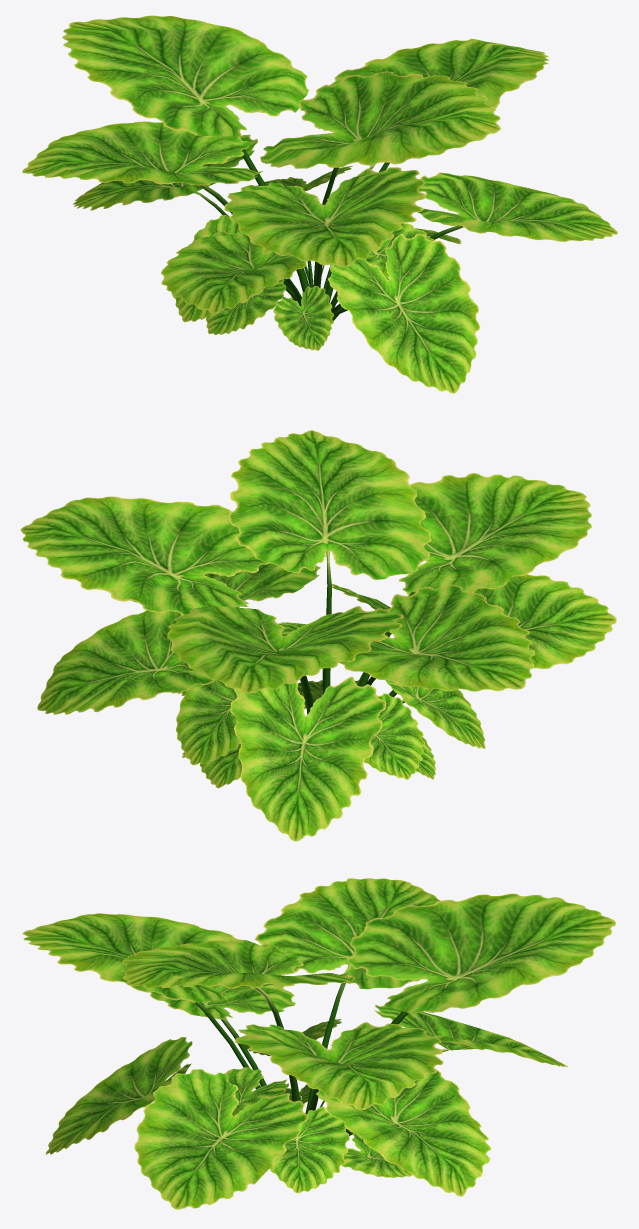
Rendered from elephant.glb.
The picture shows the model from 3 angles, top to bottom: view 1: azimuth 30°, elevation 25°; view 2: azimuth 150°, elevation 25°; view 3: azimuth 270°, elevation 25°; orthographic projection. The views are drawn at different scales.
Parts seen in each view (by area): view 1: Object_2; view 2: Object_2; view 3: Object_2.
Boxes of the visible parts, <box> form: Object_2: <box>22,15,617,393</box>; Object_2: <box>20,430,616,841</box>; Object_2: <box>22,878,615,1209</box>.
Bounding box in the file's own units: 6.14 × 2.8 × 6.33.
Materials: 1 (1 with a texture image).
